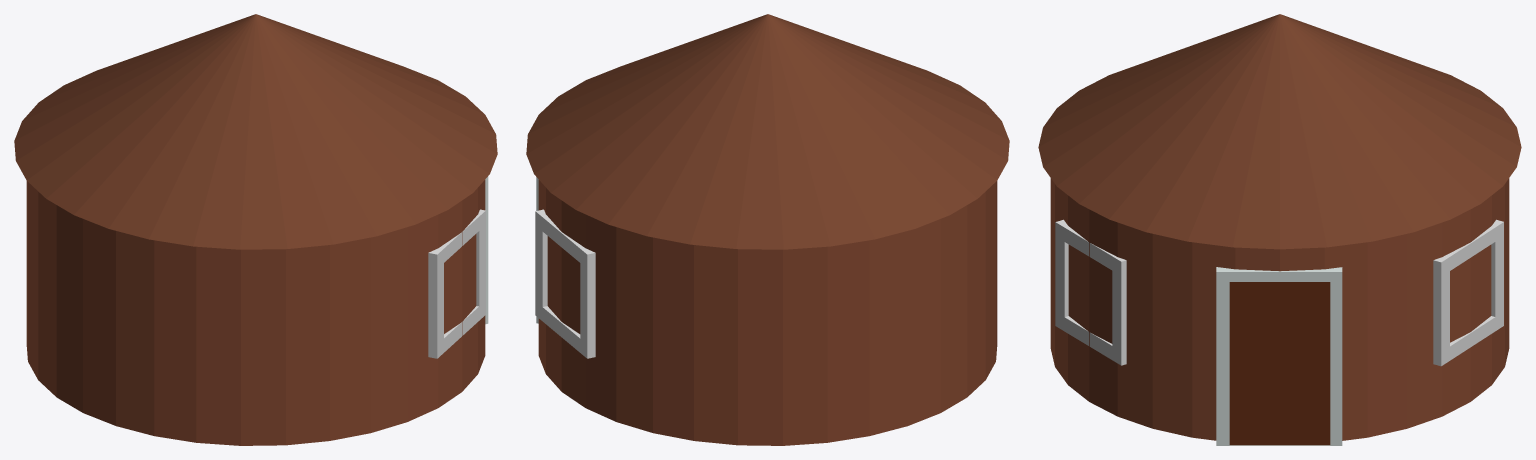
File: TempWoodHut.fbx
3 renders of one model, left to right at view 1: azimuth 30°, elevation 25°; view 2: azimuth 150°, elevation 25°; view 3: azimuth 270°, elevation 25°, orthographic.
Visible parts, largest first — view 1: Base, Roof, Window.001, Door; view 2: Base, Roof, Window; view 3: Roof, Base, Door, Window, Window.001.
Boxes of the visible parts, <box> form: Base: <box>26,180,485,445</box>; Roof: <box>14,14,497,249</box>; Window.001: <box>428,209,485,358</box>; Door: <box>485,176,488,324</box>; Base: <box>538,180,997,445</box>; Roof: <box>526,14,1009,249</box>; Window: <box>535,209,595,358</box>; Roof: <box>1038,14,1521,249</box>; Base: <box>1050,178,1509,440</box>; Door: <box>1216,267,1342,445</box>; Window: <box>1433,219,1503,366</box>; Window.001: <box>1055,219,1126,365</box>.
Bounding box in the file's own units: 842 × 643 × 842.
